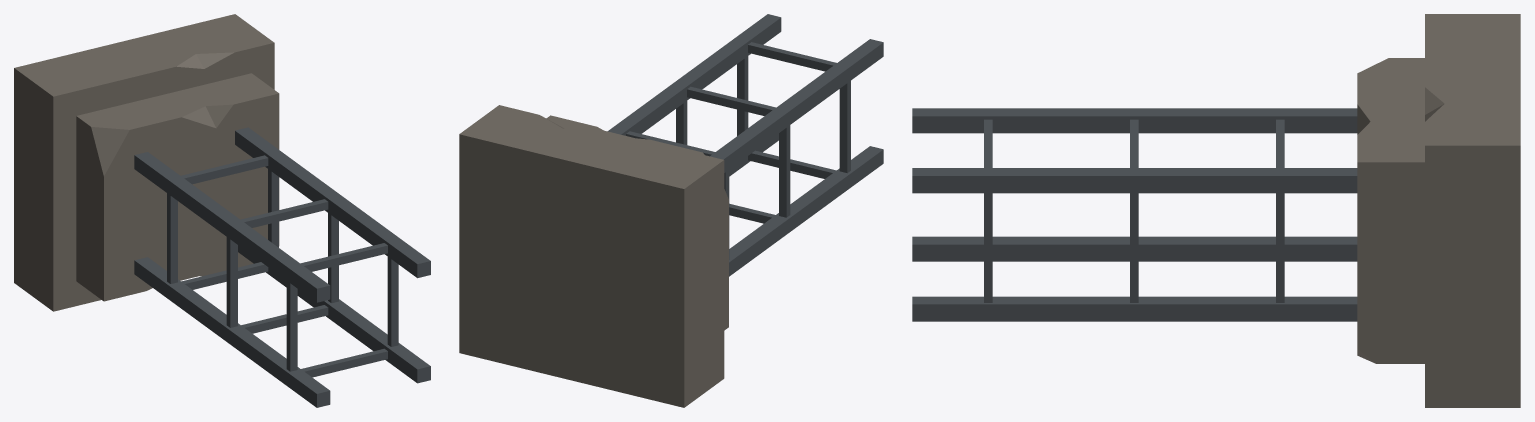
Rendered from SM_Prop_Sign_Attachment_03.obj.
3 views of the same model, side by side, from view 1: azimuth 30°, elevation 25°; view 2: azimuth 150°, elevation 25°; view 3: azimuth 270°, elevation 25° (orthographic). The views are drawn at different scales.
Visible parts, largest first — view 1: SM_Prop_Sign_Attachment_03_0; view 2: SM_Prop_Sign_Attachment_03_0; view 3: SM_Prop_Sign_Attachment_03_0.
Part boxes in pixels (x1,y1,x2,y2): SM_Prop_Sign_Attachment_03_0: [14, 14, 430, 407]; SM_Prop_Sign_Attachment_03_0: [459, 14, 883, 407]; SM_Prop_Sign_Attachment_03_0: [912, 14, 1520, 407].
Size of the model in its own units: 0.6231 by 0.5791 by 1.22.
Materials: 1 (1 with a texture image).
